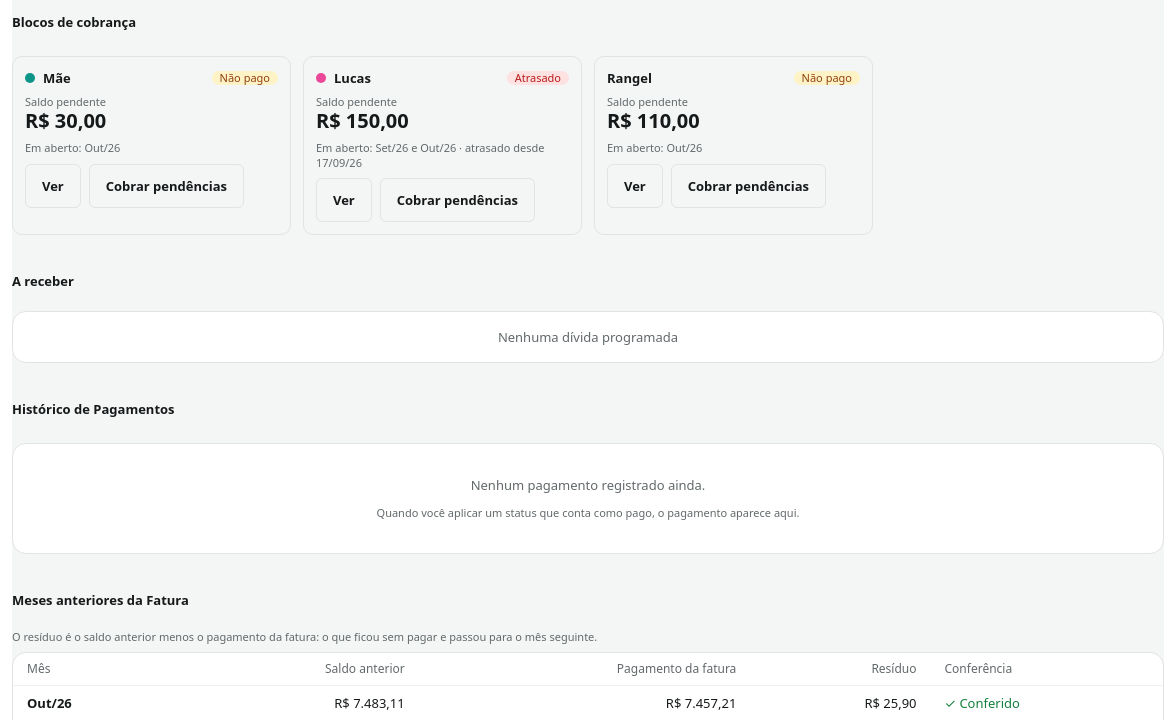
Scenario: 'Ver': a lista dos Lançamentos em aberto › agrupa por Mês (o mais novo primeiro) com o que falta de cada linha
Click the button with aria-label "Ver os lançamentos em aberto de Lucas" at (344, 200), box [316, 178, 372, 222]
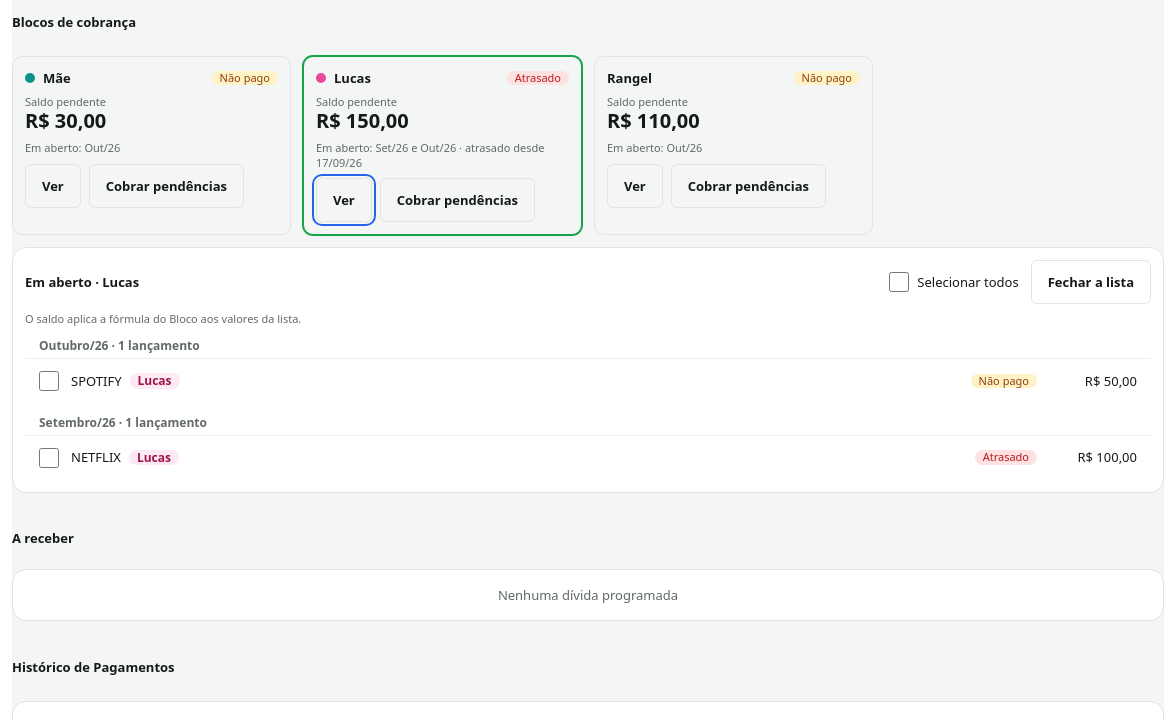
Expected: the headings read "Outubro/26 · 1 lançamento", "Setembro/26 · 1 lançamento", in this order, [25, 334, 1151, 359]; [25, 411, 1151, 436]
Expected: the checkbox named "Marcar SPOTIFY" is shown, [39, 371, 59, 391]
Expected: the checkbox named "Marcar NETFLIX" is shown, [39, 448, 59, 468]
